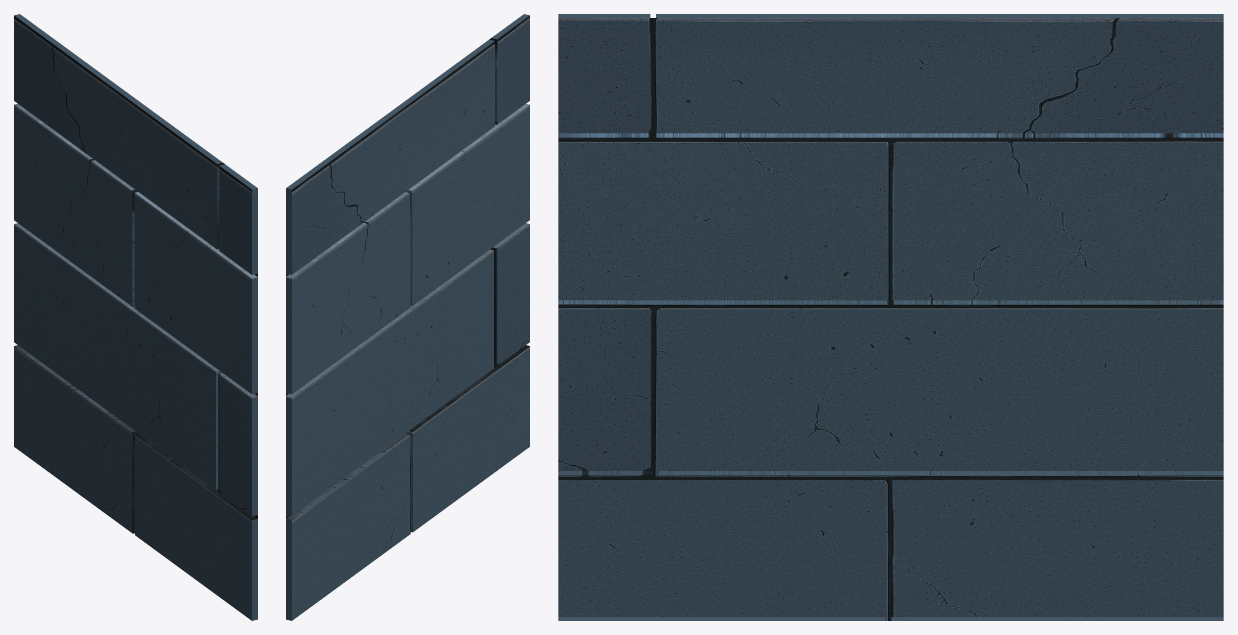
Rendered from Wall.fbx.
The picture shows the model from 3 angles, left to right: view 1: azimuth 30°, elevation 25°; view 2: azimuth 150°, elevation 25°; view 3: azimuth 270°, elevation 25°; orthographic projection. The views are drawn at different scales.
Parts seen in each view (by area): view 1: Wall; view 2: Wall; view 3: Wall.
Boxes of the visible parts, x1,y1,x2,y2 form: Wall: [14, 14, 257, 620]; Wall: [286, 14, 529, 620]; Wall: [558, 14, 1223, 620].
Bounding box in the file's own units: 15.18 × 1070 × 1070.
Materials: 1 (1 with a texture image).
